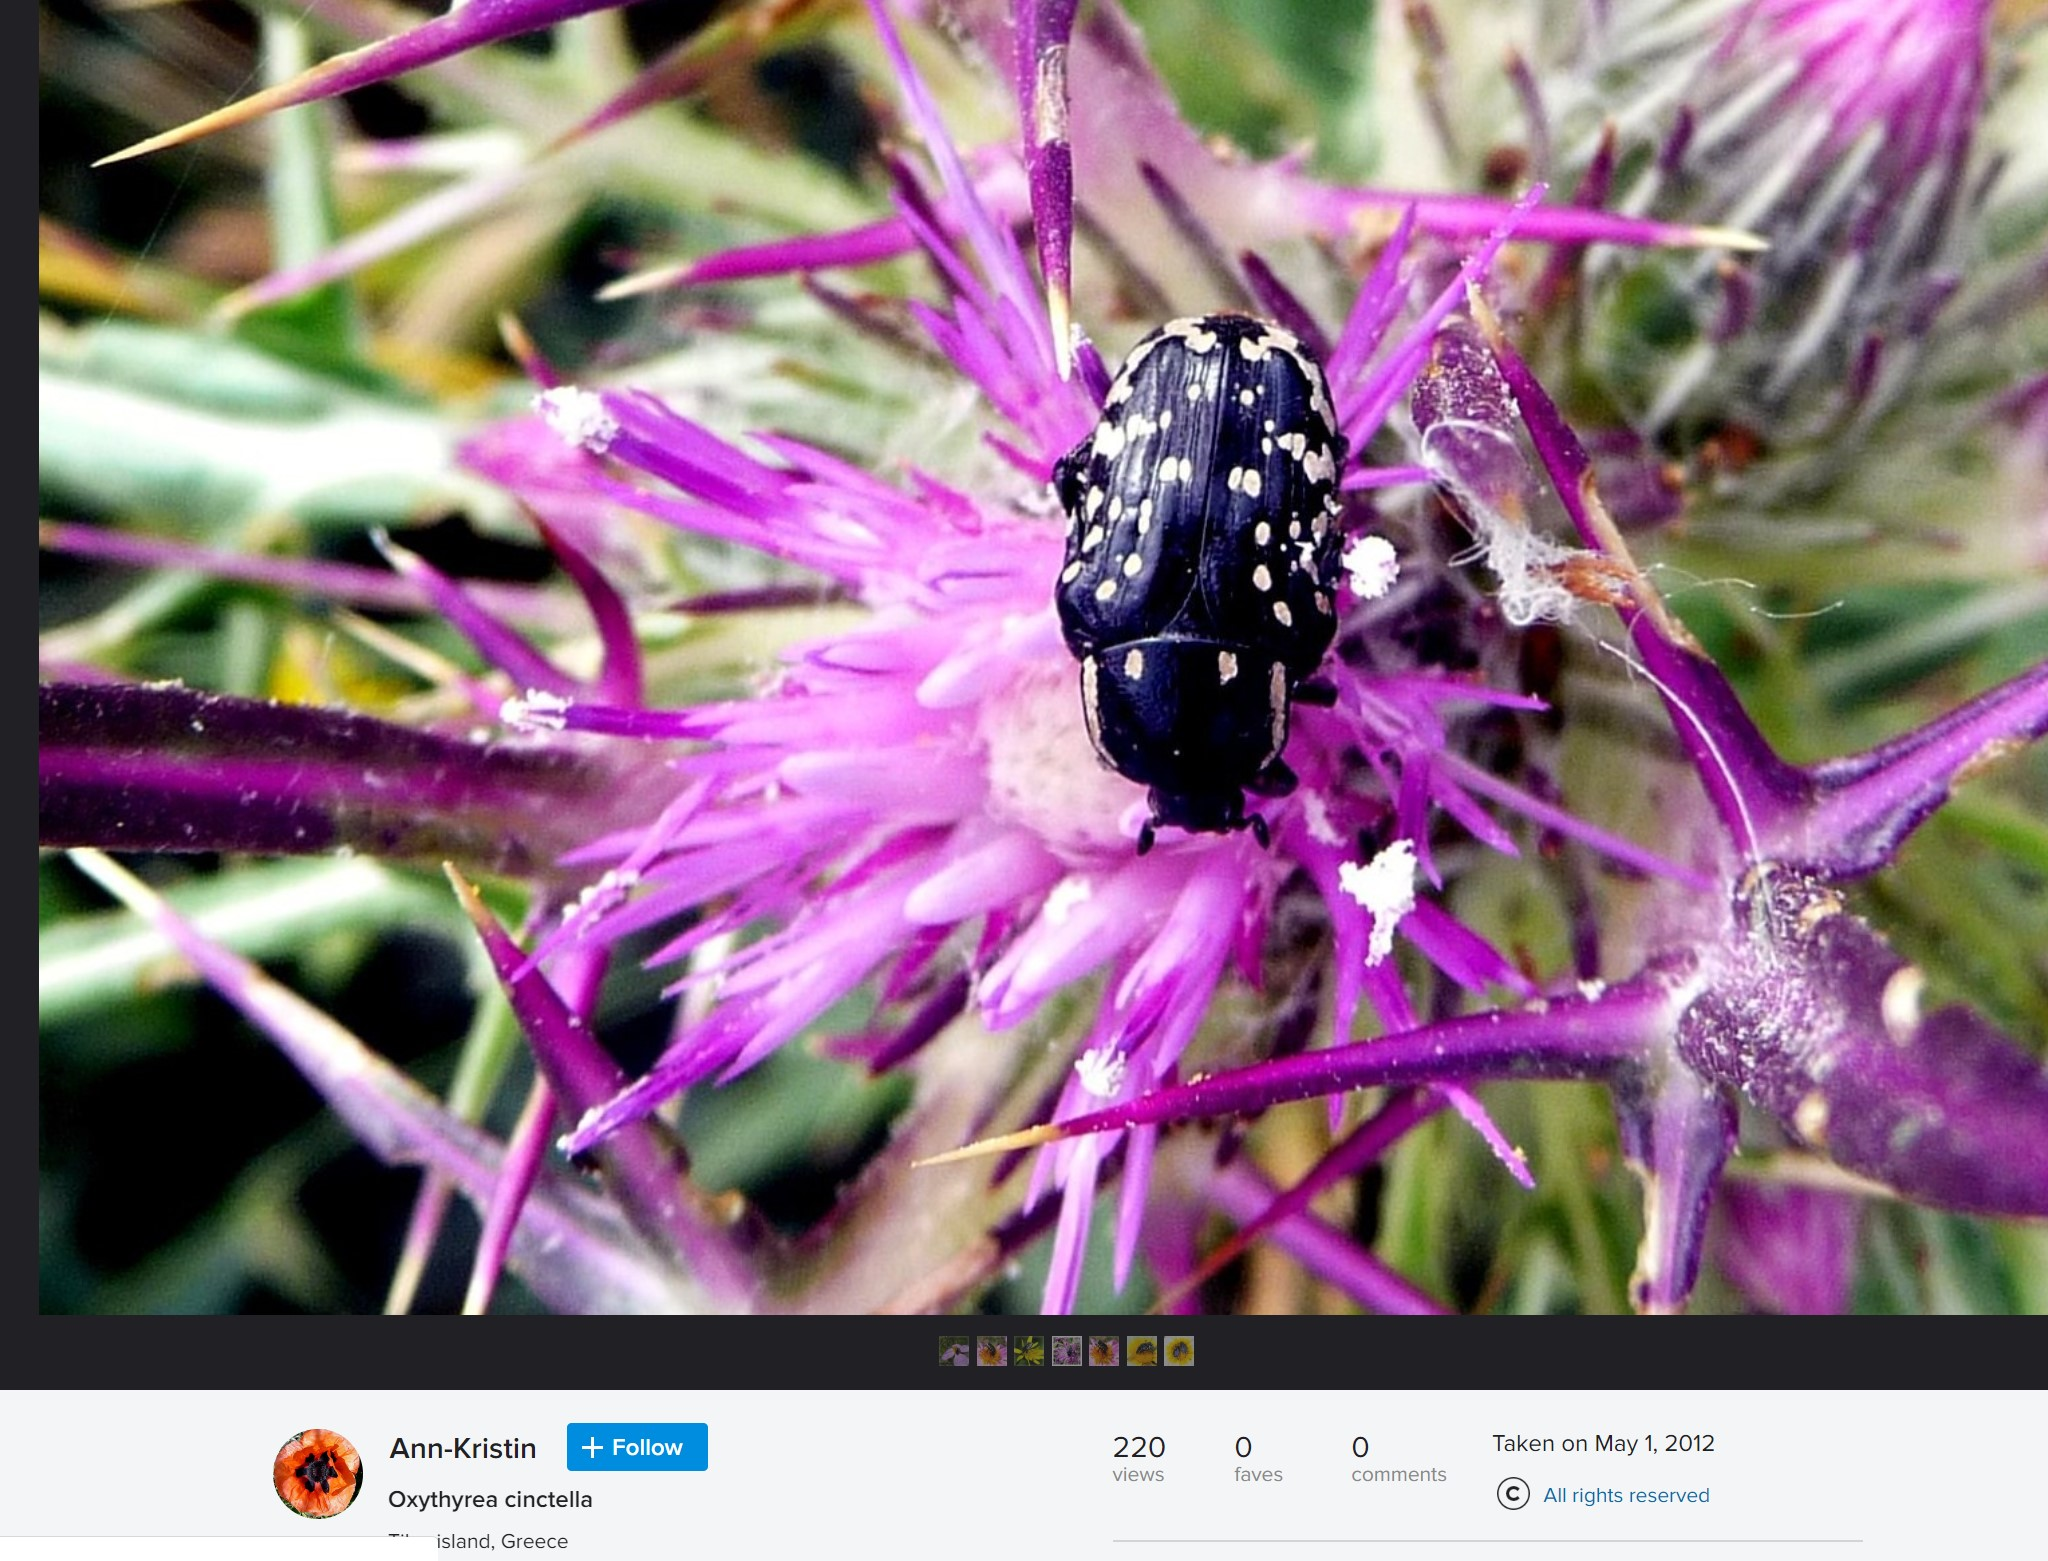Oxythyrea_cinctella: (1031, 298, 1354, 854)
